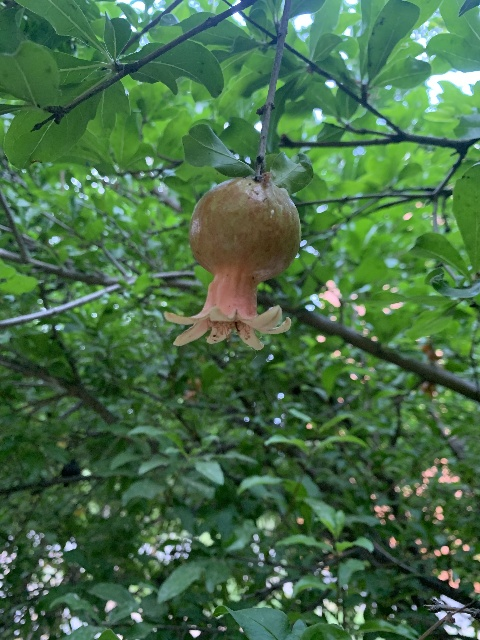early-fruit: (163, 176, 301, 350)
